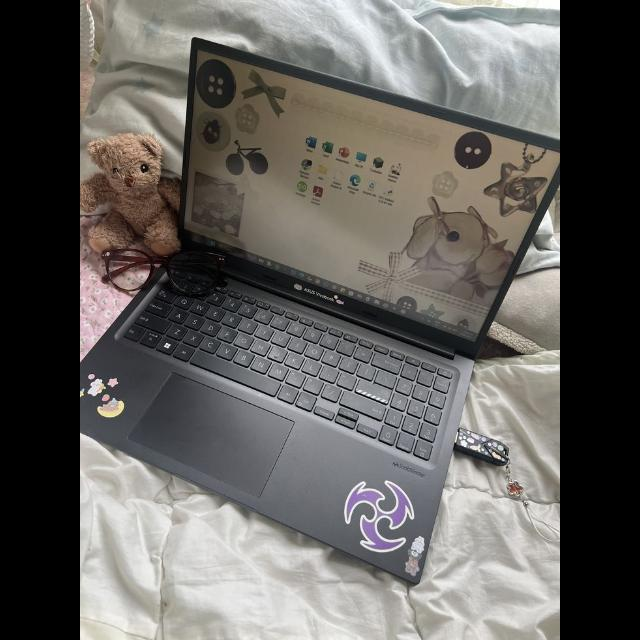laptop: (80, 37, 560, 583)
